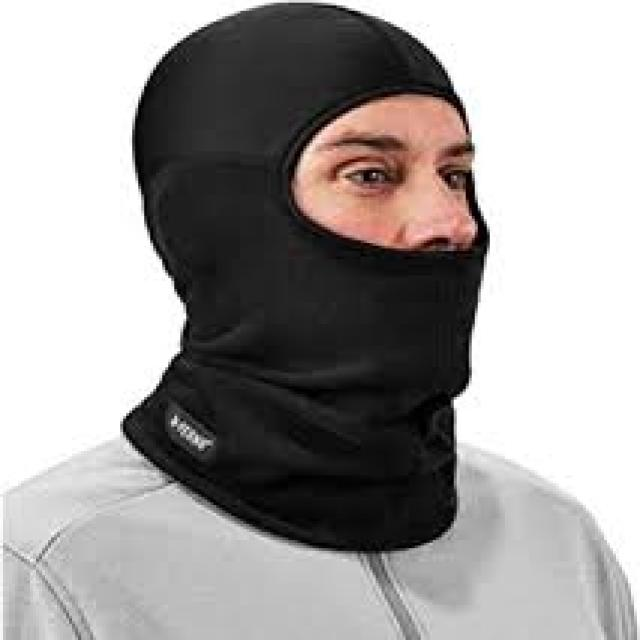6_pasamontana: (119, 1, 489, 554)
